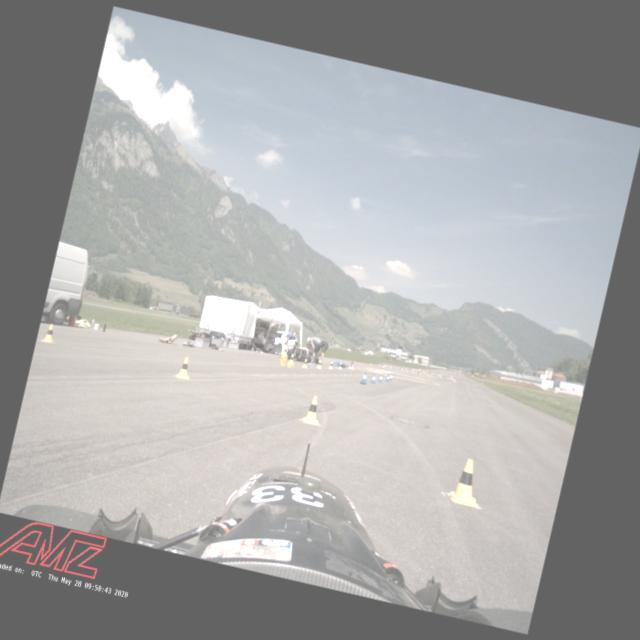blue_cone: (360, 371, 368, 384), (369, 374, 376, 384), (384, 373, 390, 382), (378, 373, 383, 382), (388, 373, 393, 381)
yellow_cone: (445, 456, 487, 508), (302, 394, 324, 426), (176, 355, 193, 380), (41, 322, 58, 344), (282, 346, 288, 356), (288, 353, 294, 363), (302, 358, 308, 368), (316, 359, 322, 368), (328, 361, 333, 369), (338, 361, 343, 369)
